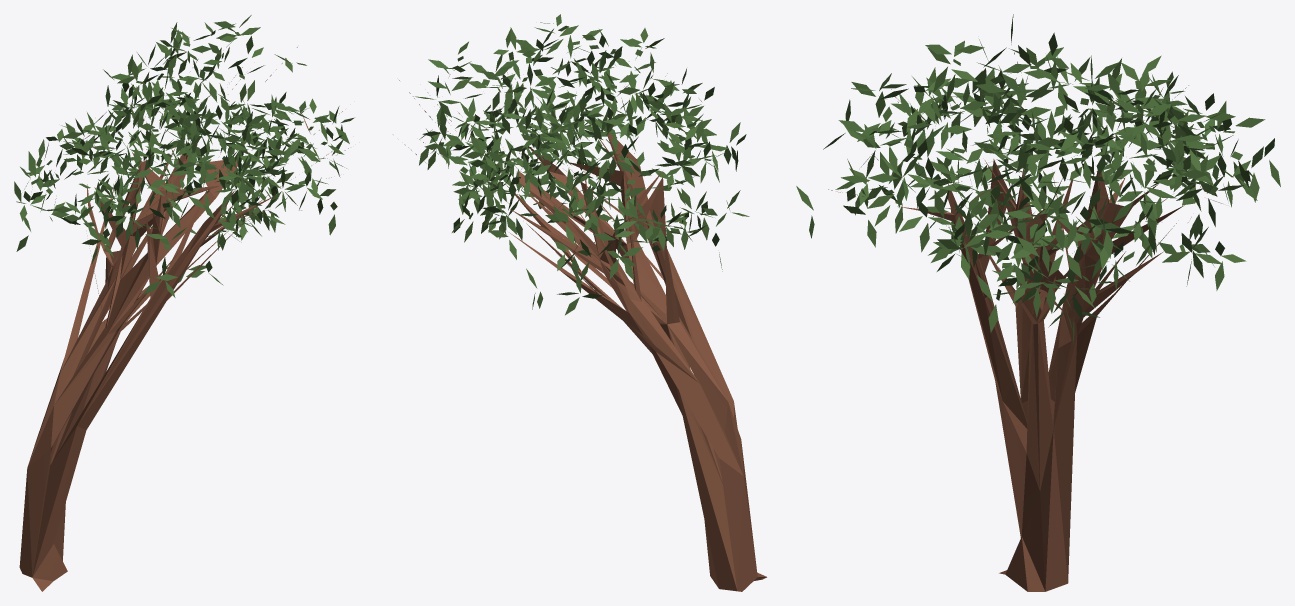
Rendered from ArbousierCanopee_1_Niveau2.fbx.
The picture shows the model from 3 angles, left to right: view 1: azimuth 30°, elevation 25°; view 2: azimuth 150°, elevation 25°; view 3: azimuth 270°, elevation 25°; orthographic projection. The views are drawn at different scales.
Parts seen in each view (by area): view 1: ArbousierCanopee_1_Niveau2; view 2: ArbousierCanopee_1_Niveau2; view 3: ArbousierCanopee_1_Niveau2.
Part boxes in pixels (<box>): ArbousierCanopee_1_Niveau2: <box>14,15,354,591</box>; ArbousierCanopee_1_Niveau2: <box>399,14,766,591</box>; ArbousierCanopee_1_Niveau2: <box>796,14,1280,591</box>.
Bounding box in the file's own units: 281 × 395 × 268.
